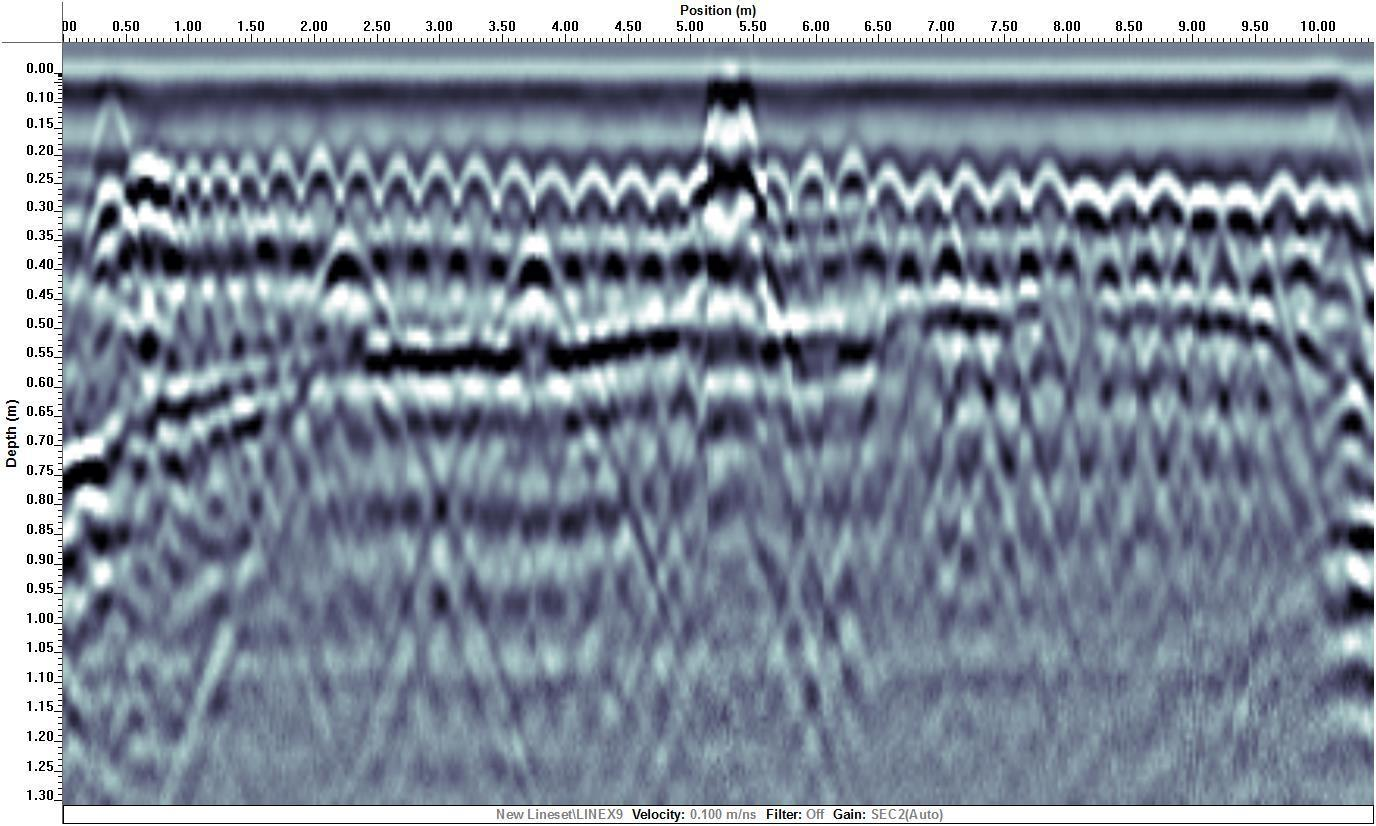hyperbola: (299, 131, 340, 225), (338, 140, 379, 234), (378, 130, 419, 224), (418, 139, 459, 233), (460, 141, 501, 235), (495, 146, 536, 240), (536, 150, 577, 244), (573, 149, 614, 243), (612, 155, 653, 249), (645, 146, 686, 240), (834, 134, 875, 228), (871, 146, 912, 240), (908, 152, 949, 246), (947, 139, 988, 233), (985, 145, 1026, 239), (1030, 139, 1071, 233), (1064, 153, 1105, 247), (1106, 149, 1147, 243), (1263, 145, 1304, 239), (1141, 143, 1182, 237), (1179, 154, 1220, 248), (1223, 157, 1264, 251)
